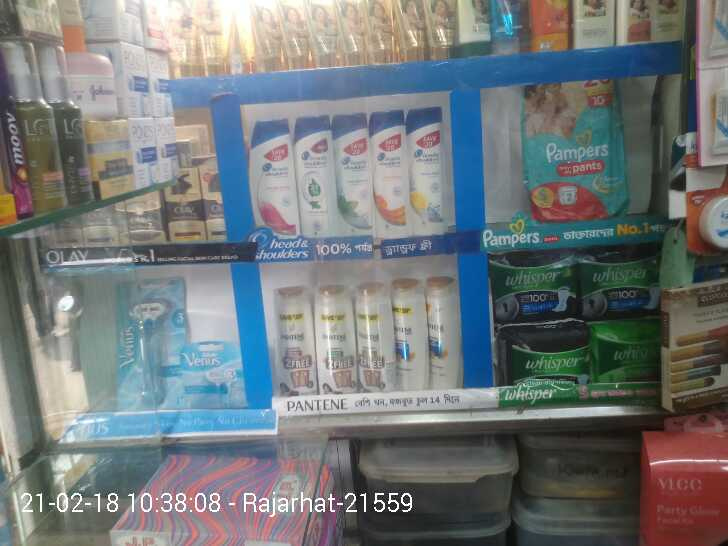venus: (118, 282, 184, 403), (184, 338, 243, 403)
